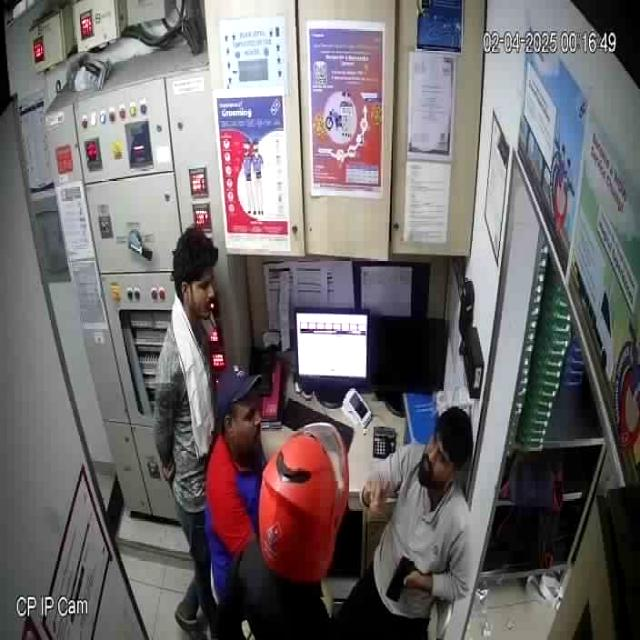helmet: (257, 422, 349, 586)
no_helmet: (217, 364, 262, 465), (417, 407, 471, 490), (173, 229, 218, 318)
